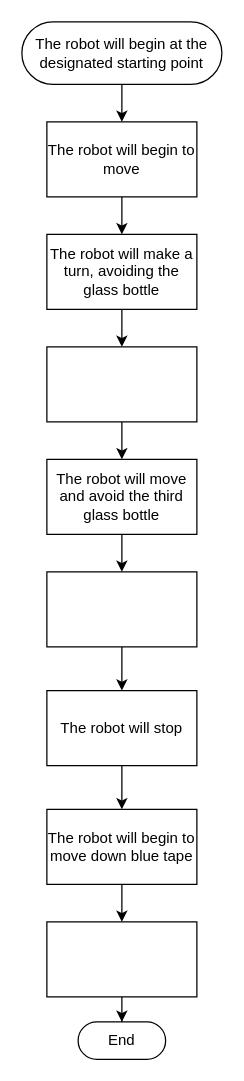
The diagram is 244 pixels wide and 1081 high, and some of its shapes have lost their labels. Each missing label, with the centre of its shape:
"The robot will knock down all the pins" goes at [121,959].
"The robot will move and avoid the second glass bottle" goes at [121,384].
"The robot will run and jump over the ramp" goes at [121,609].
